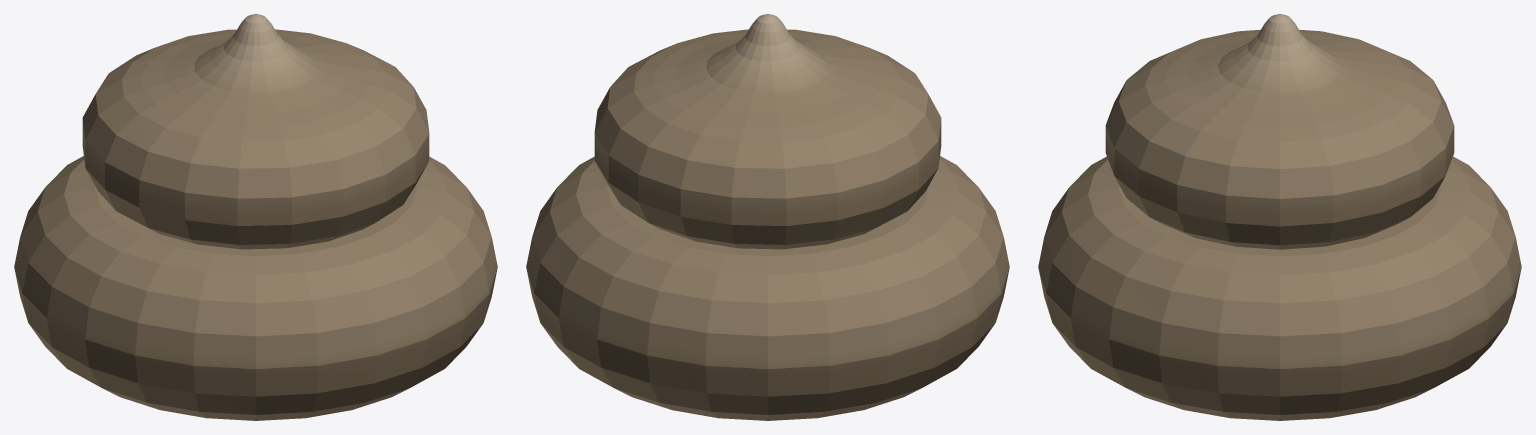
The model's file is poop.obj.
3 views of the same model, side by side, from view 1: azimuth 30°, elevation 25°; view 2: azimuth 150°, elevation 25°; view 3: azimuth 270°, elevation 25° (orthographic).
Visible parts, largest first — view 1: pTorus3__Mt_Unco; view 2: pTorus3__Mt_Unco; view 3: pTorus3__Mt_Unco.
Part boxes in pixels (bbox=[...]): pTorus3__Mt_Unco: bbox=[14, 14, 497, 420]; pTorus3__Mt_Unco: bbox=[526, 14, 1009, 420]; pTorus3__Mt_Unco: bbox=[1038, 14, 1521, 420].
Bounding box in the file's own units: 15.32 × 11.56 × 15.32.
Materials: 1 (1 with a texture image).
